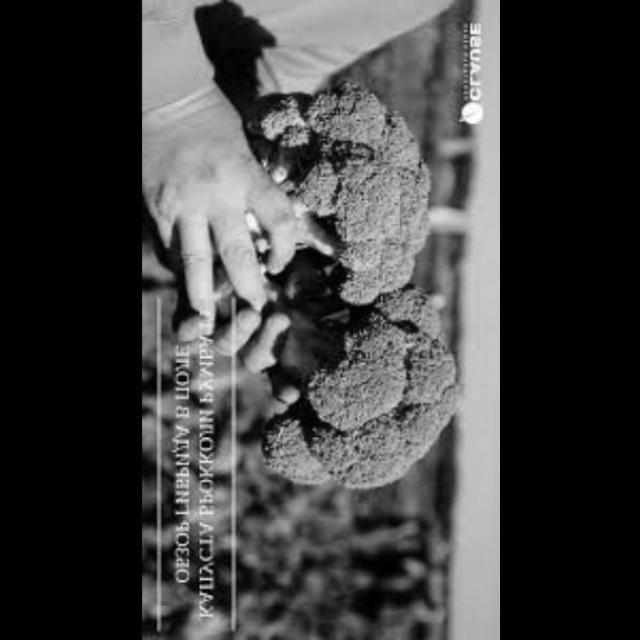bong cai xanh: (184, 71, 454, 302), (237, 272, 466, 499)
